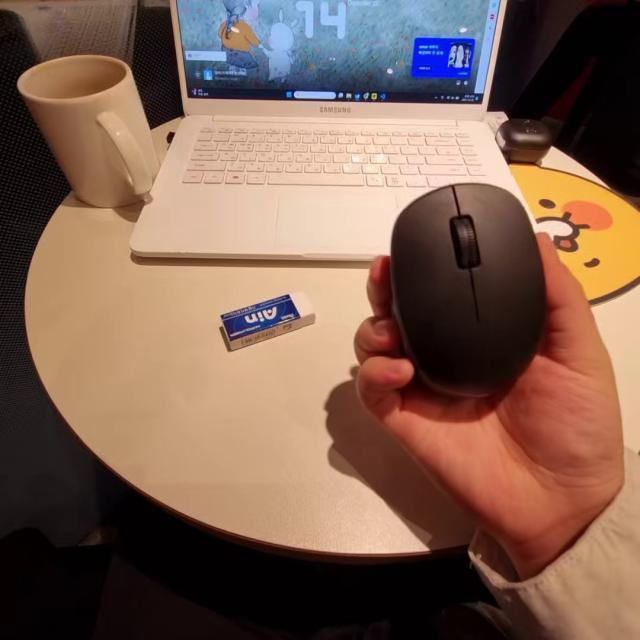eraser: (216, 284, 341, 356)
grab_mouse: (341, 176, 628, 555)
